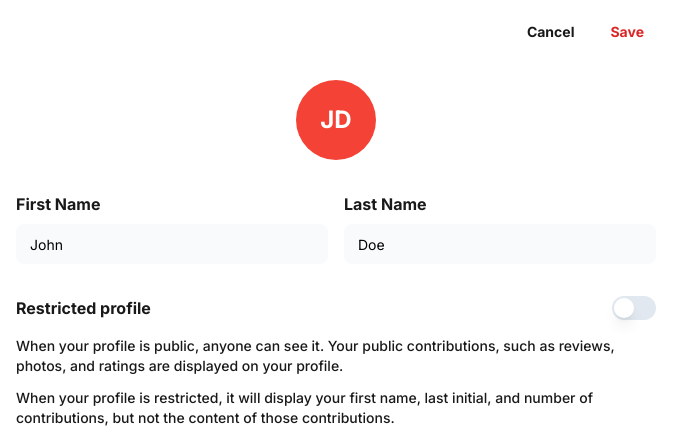
it: EditProfile › Cancel Functionality › should reset form to original values when cancel is clicked
# Change values
Type "Jane" into the field labelled "First Name" at point(172, 244), box [16,224,328,264]
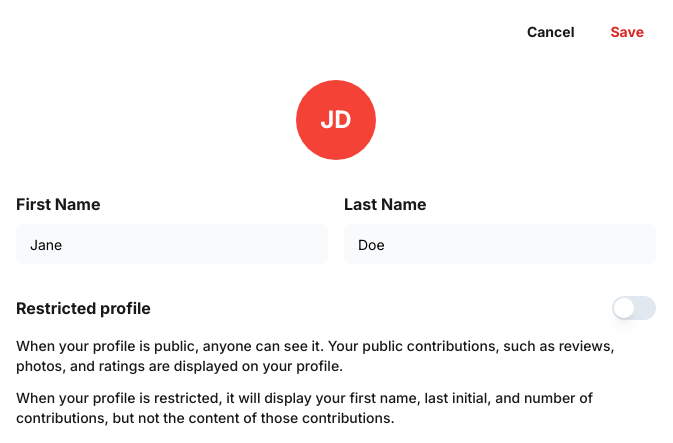
Type "Smith" into the field labelled "Last Name" at point(500, 244), box [344,224,656,264]
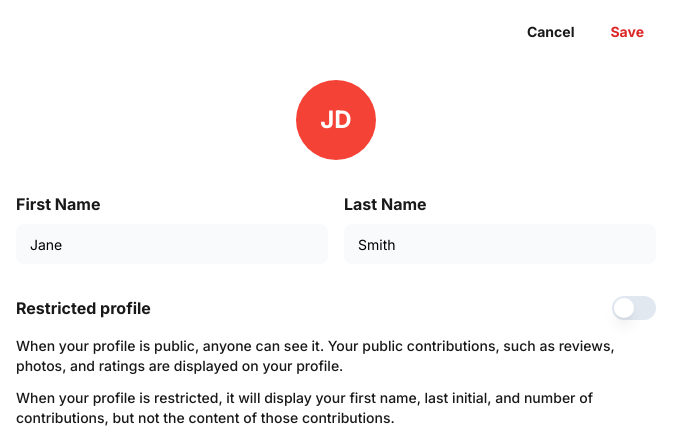
# Click cancel
Click the button "Cancel" at point(551, 32), box [515,16,586,48]
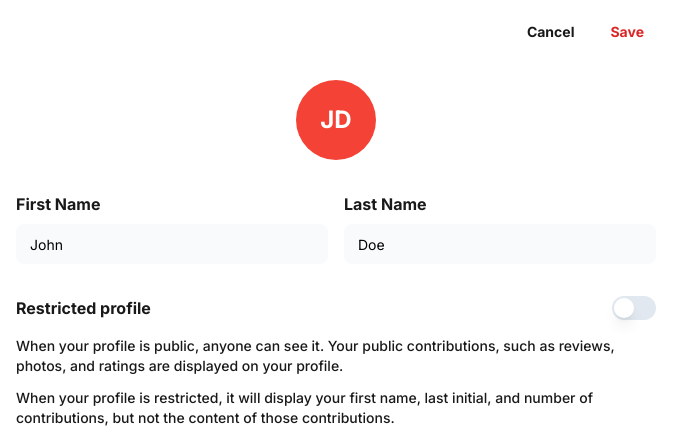
Expected: the field labelled "First Name" holds "John", [16,224,328,264]
Expected: the field labelled "Last Name" holds "Doe", [344,224,656,264]
